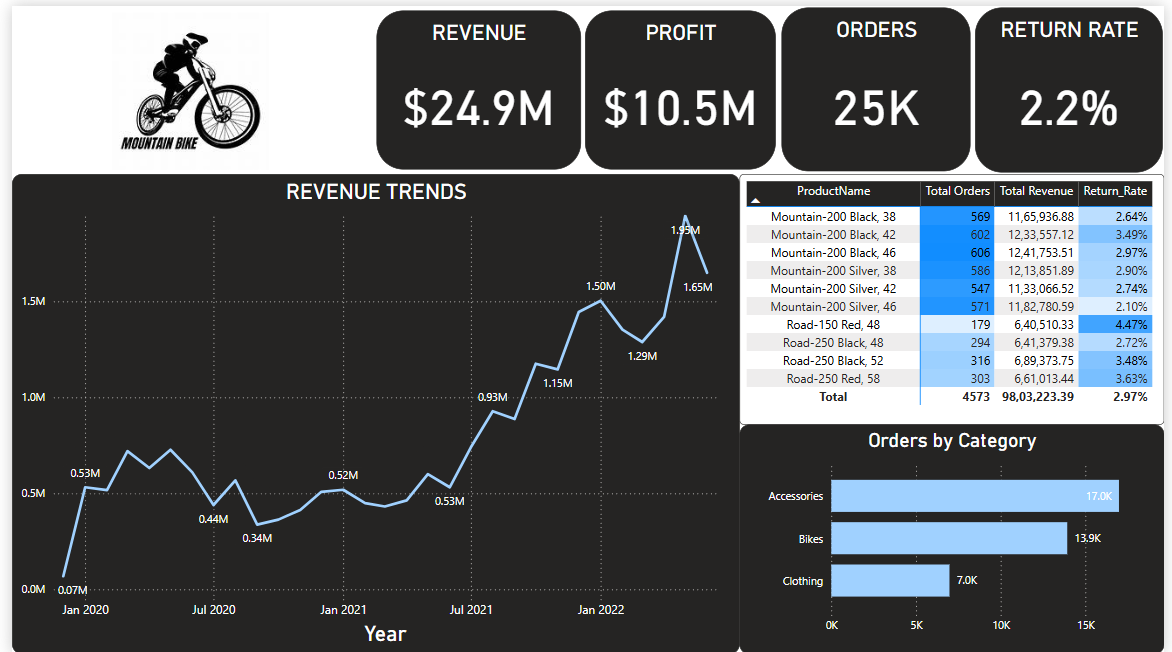

What the dashboard file says about the page in this screenshot:
{"tool":"powerbi","page":{"name":"DashBoard ","canvas":[1280,720],"ordinal":0},"visuals":[{"type":"card","title":"REVENUE","fields":{"Values":["Measure_Table.Total Revenue"]},"box":[405,5,227,176.7],"z":0,"group":"g1"},{"type":"lineChart","title":" REVENUE TRENDS","fields":{"Y":["Measure_Table.Total Revenue"],"Category":["Calendar Lookup.Start of Month.Variation.Date Hierarchy.Year","Calendar Lookup.Start of Month.Variation.Date Hierarchy.Quarter","Calendar Lookup.Start of Month.Variation.Date Hierarchy.Month","Calendar Lookup.Start of Month.Variation.Date Hierarchy.Day"]},"box":[0,186.7,808.3,533.3],"z":0},{"type":"group","id":"g1","title":"Group 1","box":[405,1.7,873.3,183.3],"z":1000},{"type":"card","title":"PROFIT","fields":{"Values":["Measure_Table.Profit"]},"box":[636.7,5,212,176.7],"z":1000,"group":"g1"},{"type":"card","title":"ORDERS","fields":{"Values":["Measure_Table.Total Orders"]},"box":[854.4,1.7,210.3,181.7],"z":2000,"group":"g1"},{"type":"pivotTable","fields":{"Rows":["Product Lookup.ProductName"],"Values":["Measure_Table.Total Orders","Measure_Table.Total Revenue","Measure_Table.Return_Rate"]},"box":[808.3,186.7,471.7,278.3],"z":2000},{"type":"card","title":"RETURN RATE","fields":{"Values":["Measure_Table.Return_Rate"]},"box":[1069.7,1.7,208.6,183.3],"z":3000,"group":"g1"},{"type":"clusteredBarChart","title":"Orders by Category","fields":{"Category":["Product Categories Lookup.CategoryName"],"Y":["Measure_Table.Total Orders"]},"box":[808.3,465,471.7,255],"z":3000},{"type":"image","box":[21.7,1.7,353.3,185],"z":4001}]}

Visuals, with their boxes in screenshot pixels (x1, y1, x2, y2), scaled from the page's 1280x720 canvas onto the 1172x652 screenshot:
"REVENUE" card: x1=371, y1=5, x2=579, y2=165
" REVENUE TRENDS" lineChart: x1=0, y1=169, x2=740, y2=651
"Group 1" group: x1=371, y1=2, x2=1170, y2=168
"PROFIT" card: x1=583, y1=5, x2=777, y2=165
"ORDERS" card: x1=782, y1=2, x2=975, y2=166
pivotTable - Product Lookup.ProductName x Measure_Table.Total Orders: x1=740, y1=169, x2=1171, y2=421
"RETURN RATE" card: x1=979, y1=2, x2=1170, y2=168
"Orders by Category" clusteredBarChart: x1=740, y1=421, x2=1171, y2=651
image: x1=20, y1=2, x2=343, y2=169
